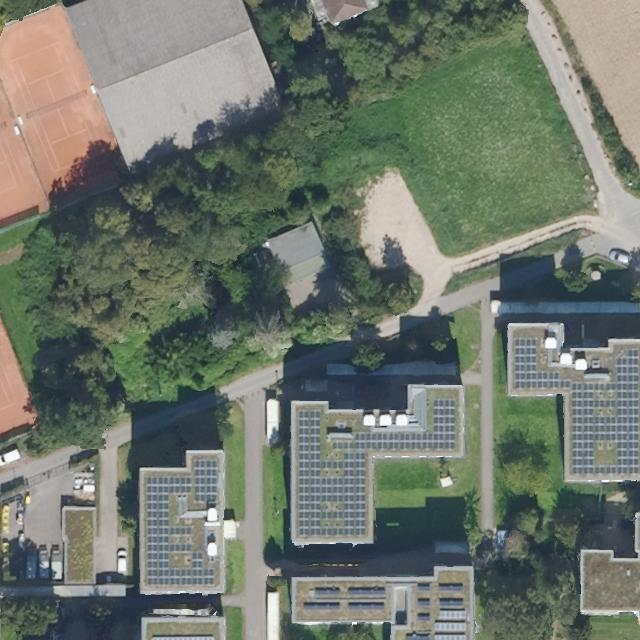PV: (294, 397, 460, 542), (511, 335, 639, 480), (143, 457, 221, 588), (433, 622, 468, 634), (346, 587, 387, 597), (347, 601, 386, 611), (438, 609, 468, 621), (303, 602, 341, 611), (437, 584, 466, 593), (313, 587, 341, 596), (439, 598, 464, 606), (406, 633, 431, 639), (433, 635, 469, 639), (417, 612, 431, 622), (417, 598, 431, 607), (417, 585, 431, 593)
